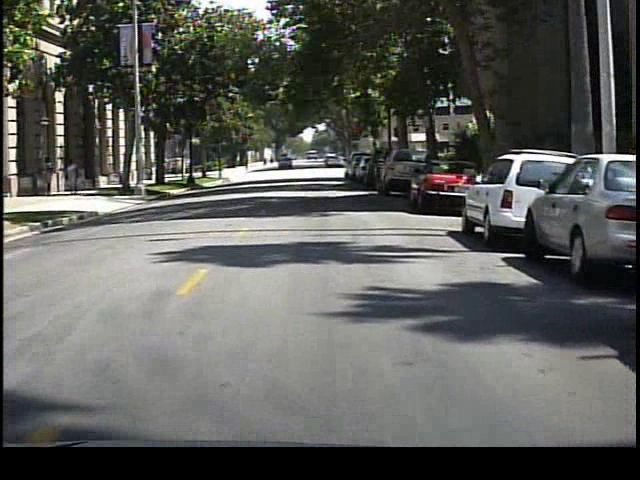person: (64, 157, 87, 197), (42, 152, 62, 194)
